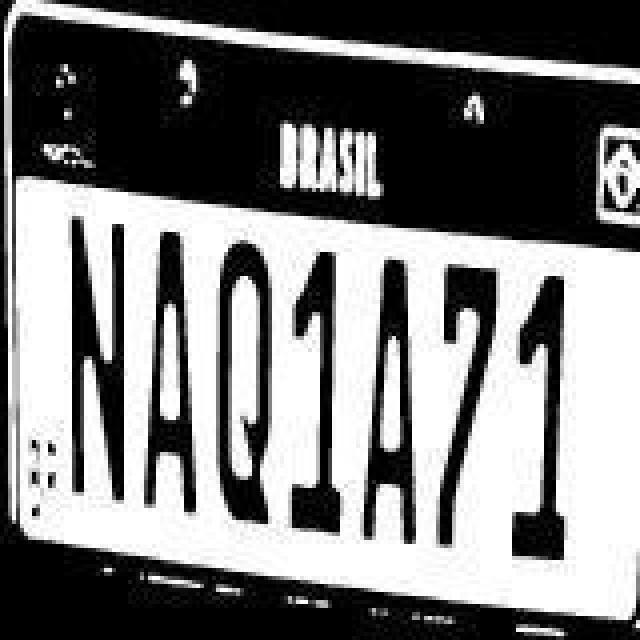1: (504, 254, 576, 562), (290, 218, 358, 534)
7: (432, 250, 504, 566)
A: (138, 208, 214, 528), (362, 232, 430, 544)
N: (62, 200, 138, 520)
Q: (220, 218, 292, 534)
